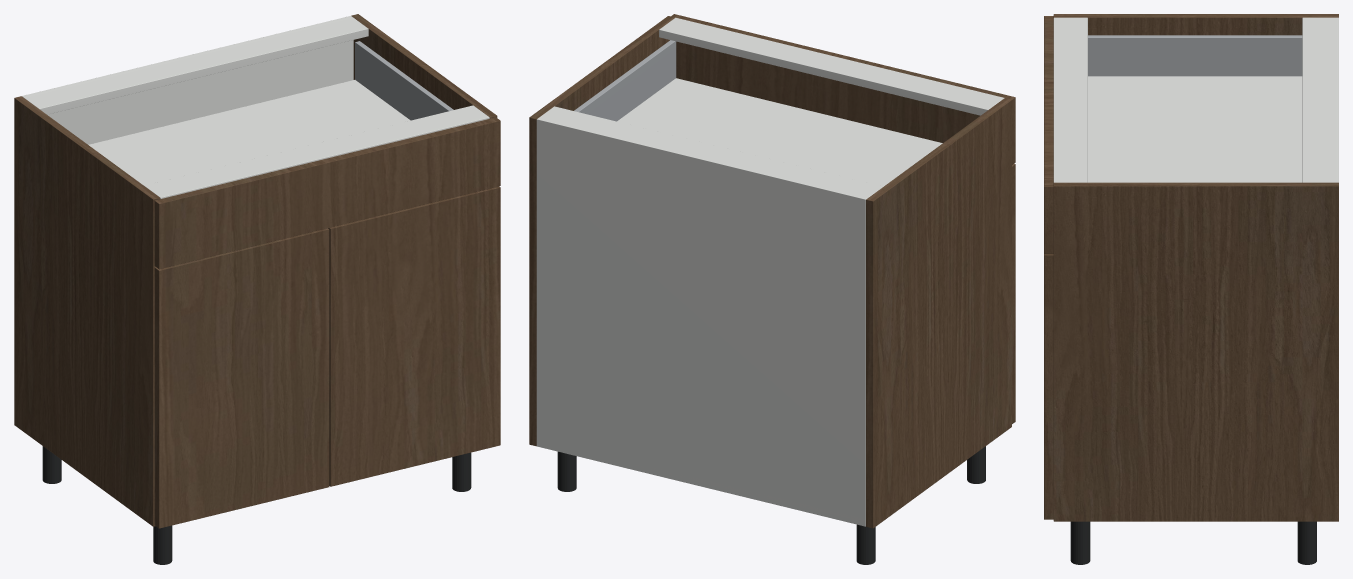
File: oppein-pb-mso-b33.glb
3 renders of one model, left to right at view 1: azimuth 30°, elevation 25°; view 2: azimuth 150°, elevation 25°; view 3: azimuth 270°, elevation 25°, orthographic. The views are drawn at different scales.
Parts seen in each view (by area): view 1: Cabinet side, Door, Door.001, Drawer front, Drawer floor, Cabinet back, Top support rail, Top support rail.001, Drawer side.001, Cabinet side.001, Adjustable foot.001, Adjustable foot.003 (+1 smaller); view 2: Cabinet back, Cabinet side, Drawer floor, Drawer front, Top support rail.001, Cabinet side.001, Top support rail, Drawer side.001, Door, Adjustable foot, Adjustable foot.002; view 3: Cabinet side.001, Drawer floor, Drawer side, Top support rail.001, Top support rail, Cabinet side, Door.001, Drawer front, Cabinet back, Adjustable foot.003, Adjustable foot.002.
Part boxes in pixels (x1,y1,x2,y2): Cabinet side: (14, 96, 160, 526); Door: (154, 228, 329, 528); Door.001: (328, 186, 500, 486); Drawer front: (154, 117, 500, 269); Drawer floor: (88, 80, 410, 185); Cabinet back: (22, 16, 353, 144); Top support rail: (24, 17, 368, 114); Top support rail.001: (144, 105, 489, 198); Drawer side.001: (355, 41, 453, 120); Cabinet side.001: (351, 14, 497, 118); Adjustable foot.001: (153, 525, 172, 564); Adjustable foot.003: (452, 452, 471, 491); Cabinet back: (536, 117, 867, 526); Cabinet side: (866, 98, 1011, 528); Drawer floor: (617, 78, 942, 186); Drawer front: (671, 14, 1015, 164); Top support rail.001: (659, 17, 1004, 115); Cabinet side.001: (529, 16, 674, 446); Top support rail: (540, 106, 883, 198); Drawer side.001: (574, 40, 676, 121); Door: (1012, 163, 1015, 423); Adjustable foot: (856, 524, 875, 564); Adjustable foot.002: (557, 451, 576, 491); Cabinet side.001: (1053, 182, 1338, 521); Drawer floor: (1088, 76, 1302, 182); Drawer side: (1088, 35, 1302, 76); Top support rail.001: (1053, 17, 1087, 182); Top support rail: (1302, 17, 1333, 182); Cabinet side: (1053, 14, 1338, 35); Door.001: (1044, 254, 1053, 519); Drawer front: (1044, 16, 1053, 253); Cabinet back: (1333, 17, 1338, 182); Adjustable foot.003: (1070, 521, 1090, 564); Adjustable foot.002: (1297, 521, 1316, 564).
Bounding box in the file's own units: 0.8382 × 0.8763 × 0.6064.
4 materials, 1 textured.
